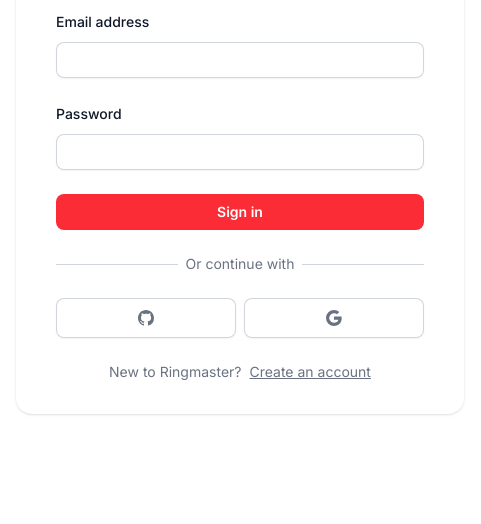
Test: AuthForm › toggles between LOGIN and REGISTER variants
Expected: the field labelled "Name" is not shown
Expected: the button "Sign in" is shown, [56,194,424,230]
Switch to REGISTER
Click the text "Create an account".
click(310, 372)  # box [250,362,371,382]
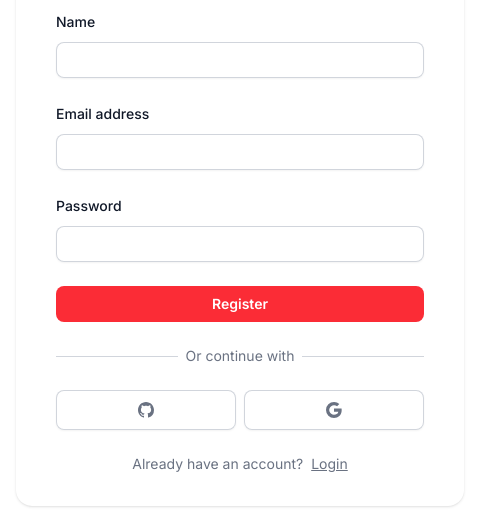
Now the button "Register" is shown, box [56,286,424,322]
Now the text "Already have an account?" is shown, box [132,454,303,474]
Now the text "Login" is shown
Switch back to LOGIN
Click the text "Login".
click(330, 464)  # box [311,454,348,474]
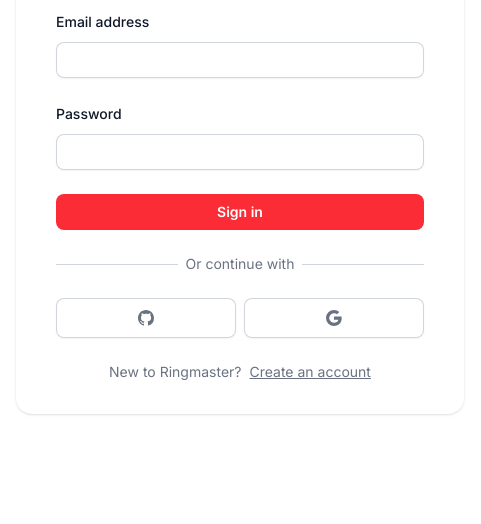
Now the label labelled "Name" is gone
Now the button "Sign in" is shown, box [56,194,424,230]
Now the text "New to Ringmaster?" is shown, box [109,362,242,382]
